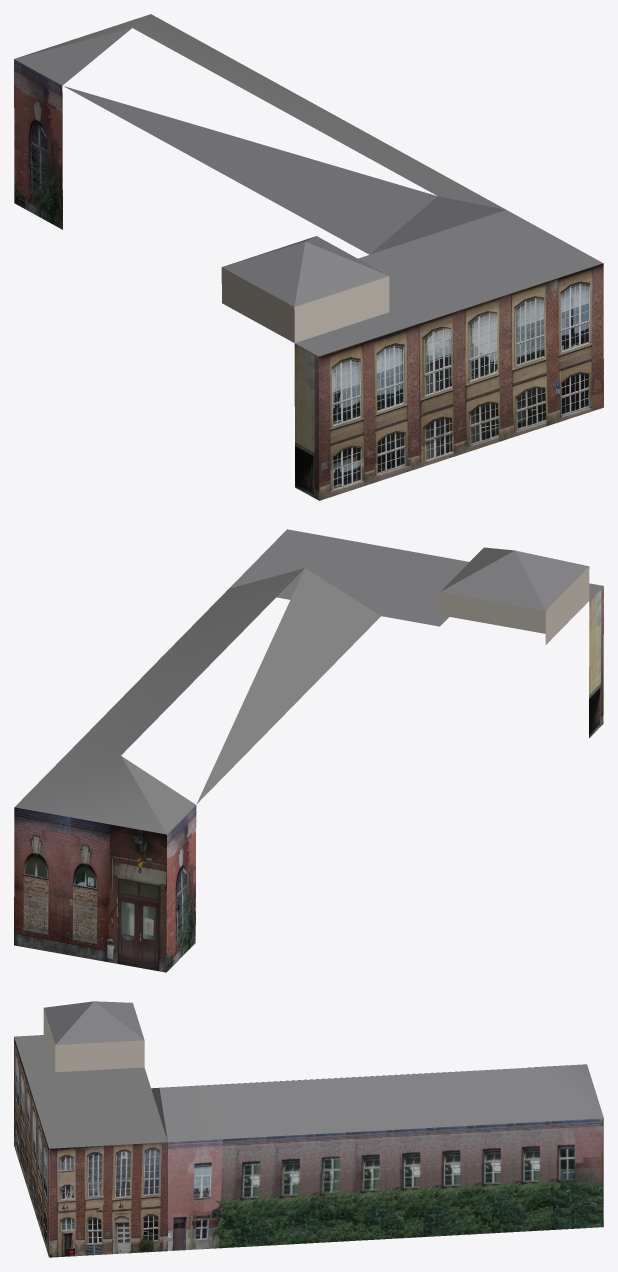
The model's file is Sachsenber-Bau.gltf.
3 views of the same model, one above another, from view 1: azimuth 30°, elevation 25°; view 2: azimuth 150°, elevation 25°; view 3: azimuth 270°, elevation 25° (orthographic). The views are drawn at different scales.
Parts seen in each view (by area): view 1: Dach.1; view 2: Dach.1; view 3: Dach.1.
Part boxes in pixels (x1,y1,x2,y2): Dach.1: (14,14,603,500); Dach.1: (14,529,603,972); Dach.1: (14,1001,603,1257).
Bounding box in the file's own units: 28.38 × 17.51 × 59.03.
8 materials, 6 textured.
